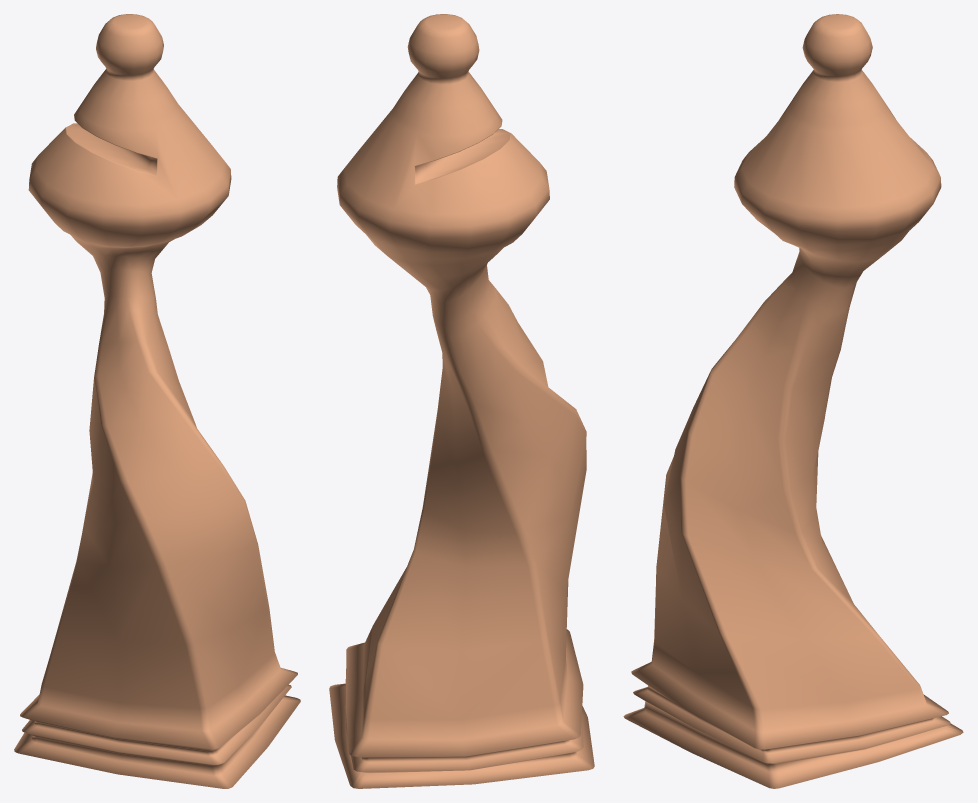
Rendered from Alfil.fbx.
The picture shows the model from 3 angles, left to right: view 1: azimuth 30°, elevation 25°; view 2: azimuth 150°, elevation 25°; view 3: azimuth 270°, elevation 25°; orthographic projection. The views are drawn at different scales.
Visible parts, largest first — view 1: Alfil.002; view 2: Alfil.002; view 3: Alfil.002.
Part boxes in pixels (x1,y1,x2,y2): Alfil.002: (14, 14, 300, 788); Alfil.002: (329, 14, 594, 788); Alfil.002: (623, 14, 963, 788).
Bounding box in the file's own units: 94.54 × 235 × 103.
